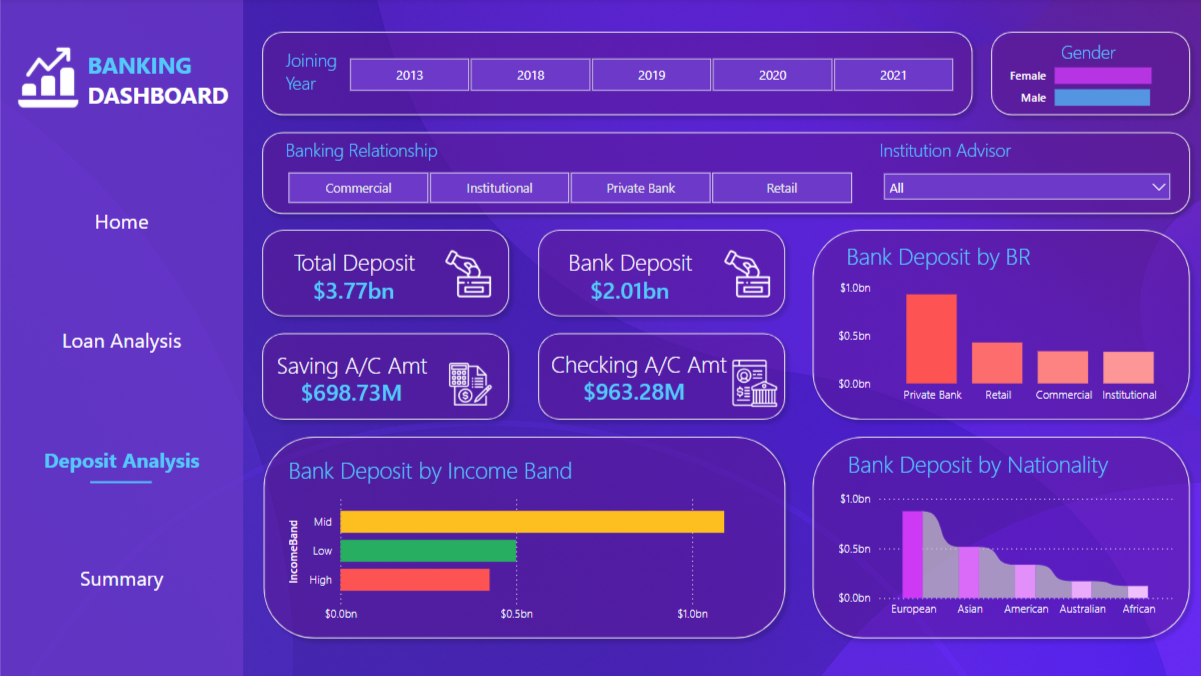

This screenshot's page, from the dashboard's own definition file:
{"tool":"powerbi","page":{"name":"Deposit Analysis","canvas":[1280,720],"ordinal":2},"visuals":[{"type":"shape","box":[0,0,257.7,720.5],"z":0,"group":"g18"},{"type":"shape","box":[1041.4,27,229,106.6],"z":0,"group":"g8"},{"type":"group","id":"g1","title":"Group 4","box":[279.8,143.1,647,81.1],"z":0,"group":"g19"},{"type":"actionButton","box":[97,222.7,65.2,30.2],"z":0},{"type":"shape","box":[852.6,237.5,418.3,219.5],"z":0,"group":"g12"},{"type":"shape","box":[852.6,456.5,418.3,232.2],"z":0,"group":"g14"},{"type":"shape","box":[268.8,27,771.4,106.6],"z":1000,"group":"g9"},{"type":"image","box":[0,35,104,98.6],"z":1000,"group":"g4"},{"type":"group","id":"g2","title":"Group 10","box":[1047.8,39.9,211.6,44.5],"z":1000,"group":"g8"},{"type":"group","id":"g3","title":"Group 6","box":[926.8,143.1,323.5,79.5],"z":1000,"group":"g19"},{"type":"textbox","box":[0,215.8,257.7,44.5],"z":1000,"group":"g18"},{"type":"textbox","box":[894.6,473.2,330.8,44.5],"z":1000,"group":"g14"},{"type":"actionButton","box":[74.8,601.3,106.6,33.4],"z":1000},{"type":"group","id":"g4","title":"Group 1","box":[0,35,257.7,98.6],"z":2000,"group":"g18"},{"type":"barChart","fields":{"Category":["Banking.GenderId"],"Y":["CountNonNull(Banking.Name)"]},"box":[1064.1,39.7,195.6,101.8],"z":2000,"group":"g8"},{"type":"textbox","box":[87.8,49.3,169.8,84.3],"z":2000,"group":"g4"},{"type":"shape","box":[268.8,133.6,1002.1,105],"z":2000,"group":"g7"},{"type":"shape","box":[269.3,237.7,280,110],"z":2000,"group":"g16"},{"type":"shape","box":[560.9,237.7,280,110],"z":2000,"group":"g13"},{"type":"actionButton","box":[63.6,346.8,130.4,35],"z":2000},{"type":"shape","box":[269.7,347.2,279.9,109.8],"z":2000,"group":"g5"},{"type":"shape","box":[561.1,347.2,279.9,109.8],"z":2000,"group":"g6"},{"type":"group","id":"g5","title":"Group 17","box":[269.2,347.2,280.4,109.8],"z":3000,"group":"g20"},{"type":"shape","box":[269.6,456.5,571,232.2],"z":3000,"group":"g10"},{"type":"textbox","box":[0,468.7,257.7,44],"z":3000,"group":"g11"},{"type":"textbox","box":[0,594.9,257.7,44.5],"z":3000,"group":"g18"},{"type":"textbox","box":[0,342.5,257.7,44],"z":4000,"group":"g18"},{"type":"group","id":"g6","title":"Group 18","box":[561.1,347.2,279.9,109.8],"z":4000,"group":"g21"},{"type":"group","id":"g7","title":"Group 12","box":[268.8,133.6,1002.1,105],"z":5000},{"type":"group","id":"g8","title":"Group 11","box":[1041.4,27,229,114.5],"z":6000},{"type":"group","id":"g9","title":"Group 3","box":[268.8,27,771.4,106.6],"z":7000},{"type":"group","id":"g10","title":"Group 15","box":[269.6,456.5,571,232.2],"z":8000},{"type":"group","id":"g11","title":"Group 2","box":[0,468.7,257.7,67.3],"z":8000,"group":"g18"},{"type":"textbox","box":[1047.8,39.9,211.6,44.5],"z":9000,"group":"g2"},{"type":"textbox","box":[297.9,47.7,92.9,66.8],"z":9000,"group":"g9"},{"type":"group","id":"g12","title":"Group 16","box":[852.6,237.5,418.3,219.5],"z":9000},{"type":"slicer","fields":{"Values":["Banking.Year of Joining"]},"box":[344.4,56.8,689.6,48.3],"z":10000,"group":"g9"},{"type":"group","id":"g13","title":"Group 9","box":[560.9,237.7,280,110],"z":10000,"group":"g17"},{"type":"group","id":"g14","title":"Group 14","box":[852.6,456.5,418.3,232.2],"z":10000},{"type":"textbox","box":[297,143.1,196.2,41.4],"z":11000,"group":"g1"},{"type":"group","id":"g15","title":"Group 19","box":[269.3,237.7,280,110],"z":11000},{"type":"textbox","box":[926.8,143.1,233.6,41.4],"z":12000,"group":"g3"},{"type":"group","id":"g16","title":"Group 8","box":[269.3,237.7,280,110],"z":12000,"group":"g15"},{"type":"group","id":"g17","title":"Group 20","box":[560.9,237.7,280,110],"z":12000},{"type":"shape","box":[95.4,491.5,65.2,44.5],"z":12000,"group":"g11"},{"type":"barChart","title":"Bank Loan by Income Band","fields":{"Category":["Banking.IncomeBand"],"Y":["Sum(Banking.Bank Deposits)"]},"box":[300.4,519.3,529.7,152.7],"z":12000,"group":"g10"},{"type":"group","id":"g18","title":"Group 21","box":[0,0,257.7,720.5],"z":13000},{"type":"slicer","fields":{"Values":["Banking.BRId"]},"box":[279.8,178.1,647,46.1],"z":13000,"group":"g1"},{"type":"clusteredColumnChart","title":"Bank Loans by BR","fields":{"Category":["Banking.BRId"],"Y":["Sum(Banking.Bank Deposits)"]},"box":[882.8,293.2,375.4,146.3],"z":13000,"group":"g12"},{"type":"image","box":[466.1,381.7,65.2,55.7],"z":14000,"group":"g20"},{"type":"textbox","box":[300.4,479.6,353.1,50.9],"z":14000,"group":"g10"},{"type":"group","id":"g19","title":"Group 7","box":[279.8,143.1,970.5,81.1],"z":15000,"group":"g7"},{"type":"slicer","fields":{"Values":["Banking.IAId"]},"box":[926.8,176.5,323.5,46.1],"z":15000,"group":"g3"},{"type":"image","box":[769.8,378.6,60.4,60.4],"z":15000,"group":"g21"},{"type":"group","id":"g20","title":"Group 22","box":[269.2,347.2,280.4,109.8],"z":15001},{"type":"group","id":"g21","title":"Group 23","box":[561.1,347.2,279.9,109.8],"z":15002},{"type":"actionButton","box":[63.6,346.8,140,31.8],"z":15003},{"type":"actionButton","box":[74.8,598.1,106.6,39.8],"z":15004},{"type":"actionButton","box":[97,224.3,65.2,28.6],"z":15005},{"type":"textbox","box":[269.3,258.4,213.1,44.5],"z":16000,"group":"g22"},{"type":"textbox","box":[560.9,258.4,213.1,44.5],"z":16000,"group":"g23"},{"type":"textbox","box":[578.3,366.9,208.4,44.5],"z":16000,"group":"g24"},{"type":"textbox","box":[288,367.5,195.6,44.5],"z":16000,"group":"g5"},{"type":"image","box":[466,262.5,60.4,60.4],"z":19000,"group":"g15"},{"type":"card","fields":{"Values":["Banking.Total Deposit"]},"box":[283.6,285.4,182.9,52.5],"z":19000,"group":"g22"},{"type":"card","fields":{"Values":["Sum(Banking.Bank Deposits)"]},"box":[575.2,285.4,182.9,52.5],"z":19000,"group":"g23"},{"type":"card","fields":{"Values":["Sum(Banking.Saving Accounts)"]},"box":[269.2,391.3,206.8,55.7],"z":19000,"group":"g5"},{"type":"card","fields":{"Values":["Sum(Banking.Checking Accounts)"]},"box":[576.3,392.5,189.3,54.1],"z":19000,"group":"g24"},{"type":"image","box":[761.9,262.5,60.4,60.4],"z":20000,"group":"g17"},{"type":"textbox","box":[893.1,252.6,235.4,42.9],"z":21000,"group":"g12"},{"type":"group","id":"g22","title":"Group 5","box":[269.3,258.4,213.1,79.5],"z":22001,"group":"g16"},{"type":"group","id":"g23","title":"Group 5","box":[560.9,258.4,213.1,79.5],"z":22001,"group":"g13"},{"type":"group","id":"g24","title":"Group 5","box":[576.3,366.9,210.3,79.7],"z":22001,"group":"g25"},{"type":"ribbonChart","title":"Bank Loans by Nation","fields":{"Category":["Banking.Nationality"],"Y":["Sum(Banking.Bank Deposits)"]},"box":[883.5,517.7,365.8,149.5],"z":23000,"group":"g14"},{"type":"group","id":"g25","title":"Group 13","box":[576.3,366.9,210.3,79.7],"z":23007,"group":"g6"}]}

Visuals, with their boxes in screenshot pixels (x1, y1, x2, y2), scaled from the page's 1280x720 canvas onto the 1201x676 screenshot:
shape: detection(0, 0, 242, 675)
shape: detection(977, 25, 1192, 125)
"Group 4" group: detection(263, 134, 870, 210)
actionButton: detection(91, 209, 152, 237)
shape: detection(800, 223, 1192, 429)
shape: detection(800, 429, 1192, 647)
shape: detection(252, 25, 976, 125)
image: detection(0, 33, 98, 125)
"Group 10" group: detection(983, 37, 1182, 79)
"Group 6" group: detection(870, 134, 1173, 209)
textbox: detection(0, 203, 242, 244)
textbox: detection(839, 444, 1150, 486)
actionButton: detection(70, 565, 170, 596)
"Group 1" group: detection(0, 33, 242, 125)
barChart - Banking.GenderId x CountNonNull(Banking.Name): detection(998, 37, 1182, 133)
textbox: detection(82, 46, 242, 125)
shape: detection(252, 125, 1192, 224)
shape: detection(253, 223, 515, 326)
shape: detection(526, 223, 789, 326)
actionButton: detection(60, 326, 182, 358)
shape: detection(253, 326, 516, 429)
shape: detection(526, 326, 789, 429)
"Group 17" group: detection(253, 326, 516, 429)
shape: detection(253, 429, 789, 647)
textbox: detection(0, 440, 242, 481)
textbox: detection(0, 559, 242, 600)
textbox: detection(0, 322, 242, 363)
"Group 18" group: detection(526, 326, 789, 429)
"Group 12" group: detection(252, 125, 1192, 224)
"Group 11" group: detection(977, 25, 1192, 133)
"Group 3" group: detection(252, 25, 976, 125)
"Group 15" group: detection(253, 429, 789, 647)
"Group 2" group: detection(0, 440, 242, 503)
textbox: detection(983, 37, 1182, 79)
textbox: detection(280, 45, 367, 108)
"Group 16" group: detection(800, 223, 1192, 429)
slicer - Banking.Year of Joining: detection(323, 53, 970, 99)
"Group 9" group: detection(526, 223, 789, 326)
"Group 14" group: detection(800, 429, 1192, 647)
textbox: detection(279, 134, 463, 173)
"Group 19" group: detection(253, 223, 515, 326)
textbox: detection(870, 134, 1089, 173)
"Group 8" group: detection(253, 223, 515, 326)
"Group 20" group: detection(526, 223, 789, 326)
shape: detection(90, 461, 151, 503)
"Bank Loan by Income Band" barChart: detection(282, 488, 779, 631)
"Group 21" group: detection(0, 0, 242, 675)
slicer - Banking.BRId: detection(263, 167, 870, 210)
"Bank Loans by BR" clusteredColumnChart: detection(828, 275, 1181, 413)
image: detection(437, 358, 499, 411)
textbox: detection(282, 450, 613, 498)
"Group 7" group: detection(263, 134, 1173, 210)
slicer - Banking.IAId: detection(870, 166, 1173, 209)
image: detection(722, 355, 779, 412)
"Group 22" group: detection(253, 326, 516, 429)
"Group 23" group: detection(526, 326, 789, 429)
actionButton: detection(60, 326, 191, 355)
actionButton: detection(70, 562, 170, 599)
actionButton: detection(91, 211, 152, 237)
textbox: detection(253, 243, 453, 284)
textbox: detection(526, 243, 726, 284)
textbox: detection(543, 344, 738, 386)
textbox: detection(270, 345, 454, 387)
image: detection(437, 246, 494, 303)
card - Banking.Total Deposit: detection(266, 268, 438, 317)
card - Sum(Banking.Bank Deposits): detection(540, 268, 711, 317)
card - Sum(Banking.Saving Accounts): detection(253, 367, 447, 420)
card - Sum(Banking.Checking Accounts): detection(541, 369, 718, 419)
image: detection(715, 246, 772, 303)
textbox: detection(838, 237, 1059, 277)
"Group 5" group: detection(253, 243, 453, 317)
"Group 5" group: detection(526, 243, 726, 317)
"Group 5" group: detection(541, 344, 738, 419)
"Bank Loans by Nation" ribbonChart: detection(829, 486, 1172, 626)
"Group 13" group: detection(541, 344, 738, 419)
